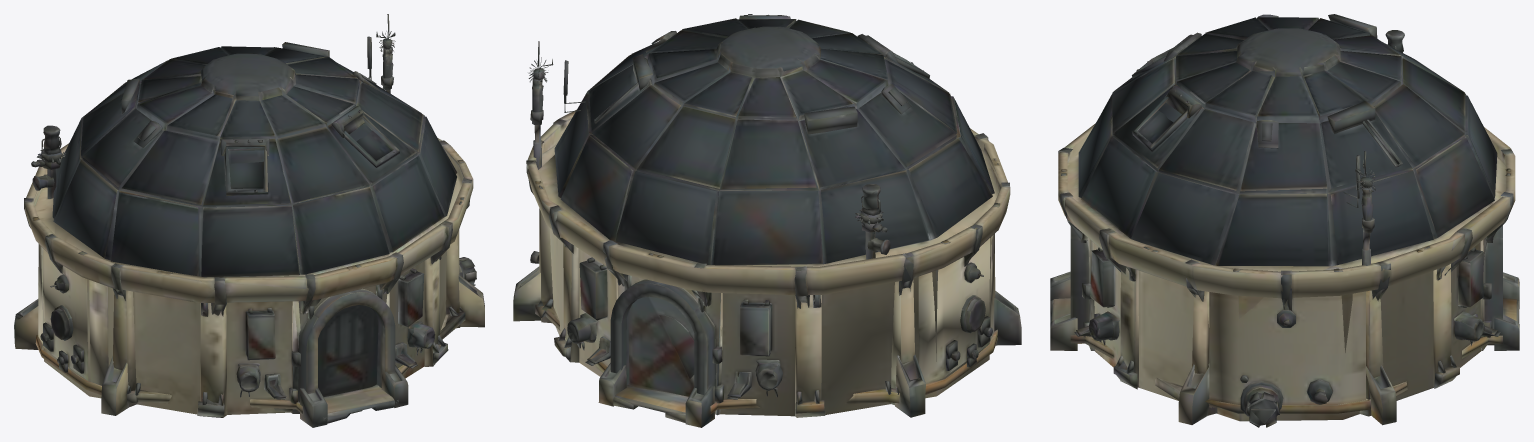
The model's file is l_dome.glb.
The picture shows the model from 3 angles, left to right: view 1: azimuth 30°, elevation 25°; view 2: azimuth 150°, elevation 25°; view 3: azimuth 270°, elevation 25°; orthographic projection. The views are drawn at different scales.
Size of the model in its own units: 0.9551 by 0.6015 by 0.8917.
Materials: 1 (1 with a texture image).
